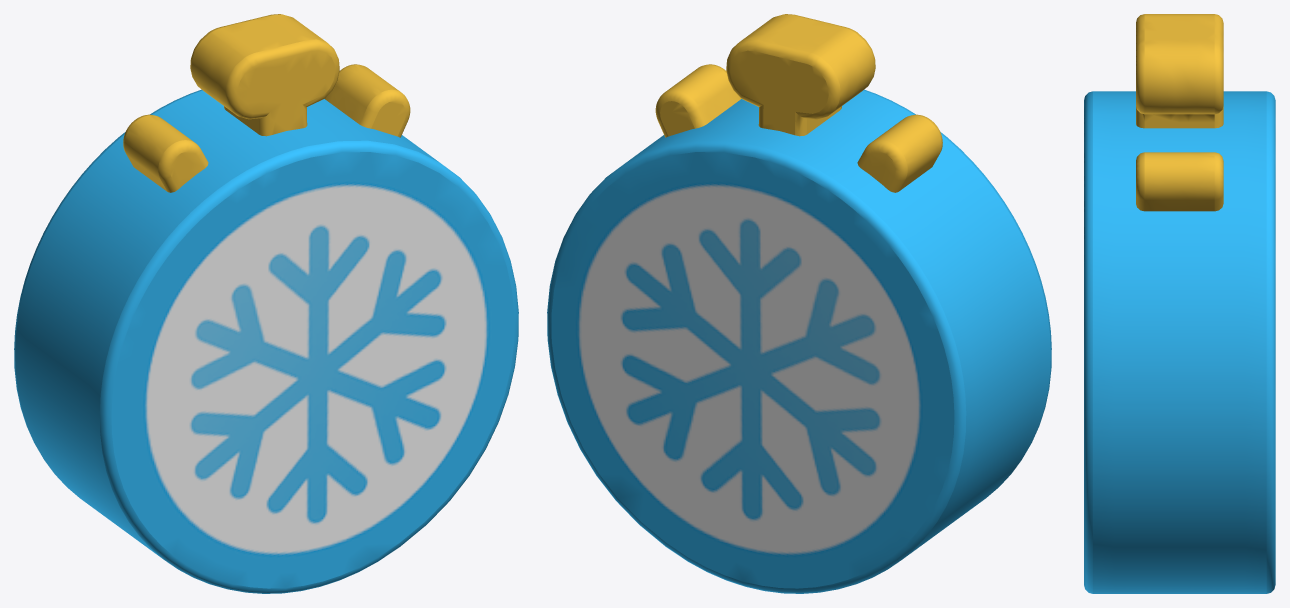
Rendered from frozenProp.FBX.
3 views of the same model, side by side, from view 1: azimuth 30°, elevation 25°; view 2: azimuth 150°, elevation 25°; view 3: azimuth 270°, elevation 25° (orthographic). The views are drawn at different scales.
Visible parts, largest first — view 1: 闹钟_1; view 2: 闹钟_1; view 3: 闹钟_1.
Boxes of the visible parts, <box> form: 闹钟_1: <box>14,14,518,593</box>; 闹钟_1: <box>547,14,1051,593</box>; 闹钟_1: <box>1084,14,1275,593</box>.
Size of the model in its own units: 0.2778 by 0.333 by 0.1092.
